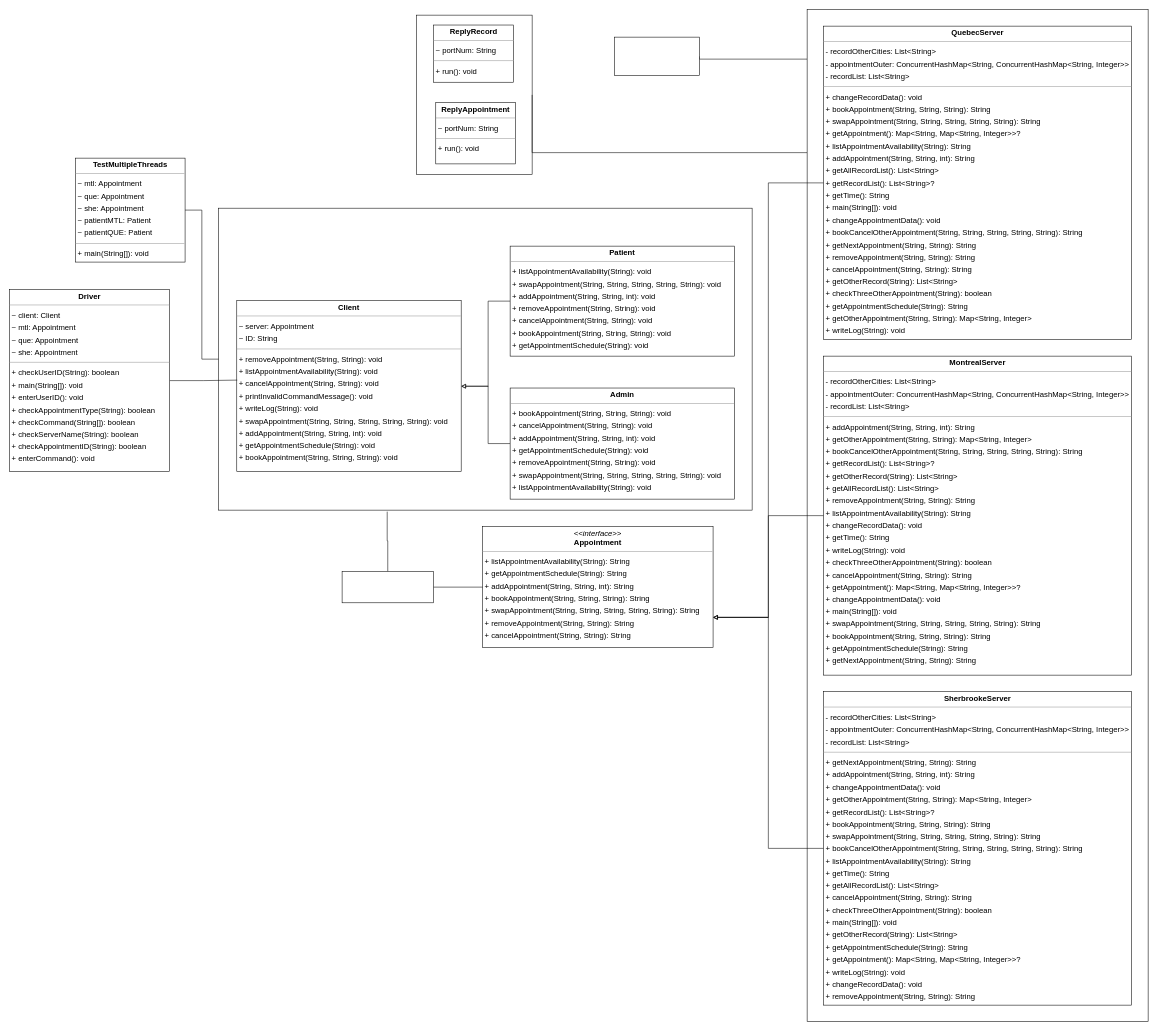
The diagram is 1158 pixels wide and 1031 high, and some of its shapes have lost their labels. Each missing label, with the box of its shape:
Constants: (614, 37, 699, 76)
Publish + main(String[]): void: (342, 571, 433, 603)
